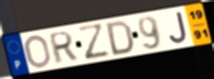9: (137, 15, 163, 50)
D: (105, 19, 135, 57)
J: (168, 11, 189, 45)
O: (24, 34, 53, 70)
R: (48, 29, 79, 66)
Z: (76, 22, 112, 62)
